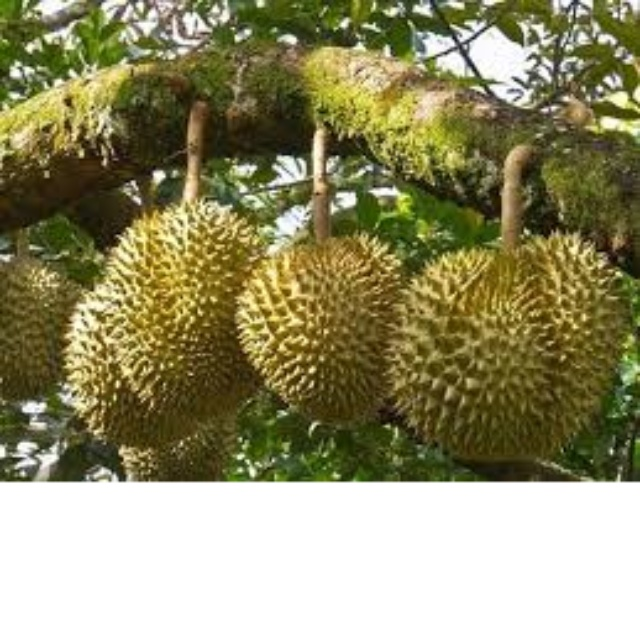sau_rieng: (388, 230, 612, 463), (108, 193, 258, 409), (233, 234, 404, 422)
